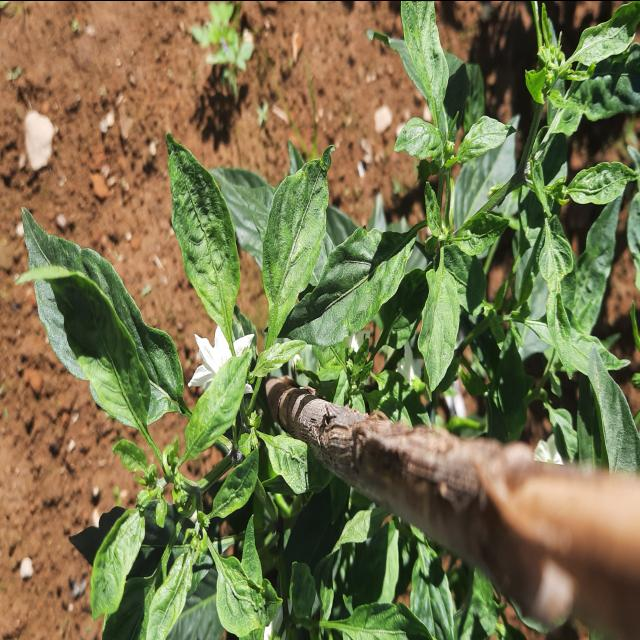thrips: (34, 218, 172, 470), (152, 128, 256, 330), (258, 128, 340, 304), (382, 0, 442, 134), (216, 544, 277, 640)
